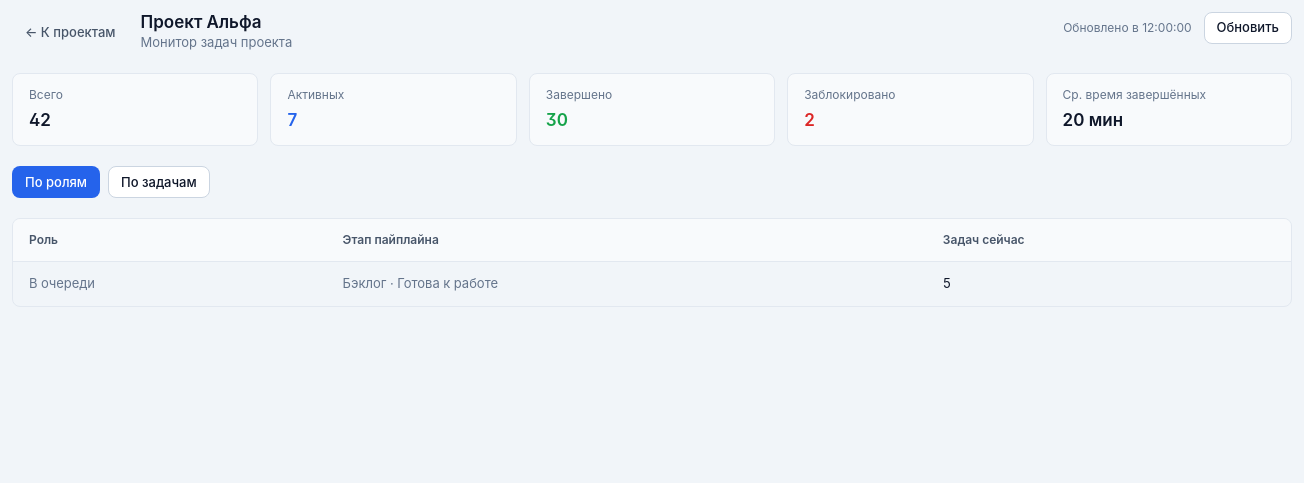
Test case: ProjectMonitor — наблюдаемость (KPI, причина блока, форс-док) › для заблокированной задачи показывает причину блокировки (роль и заметку)
The image size is (1304, 483).
Click the tab "По задачам". click: (159, 182)
box: x1=108 y1=166 x2=210 y2=198
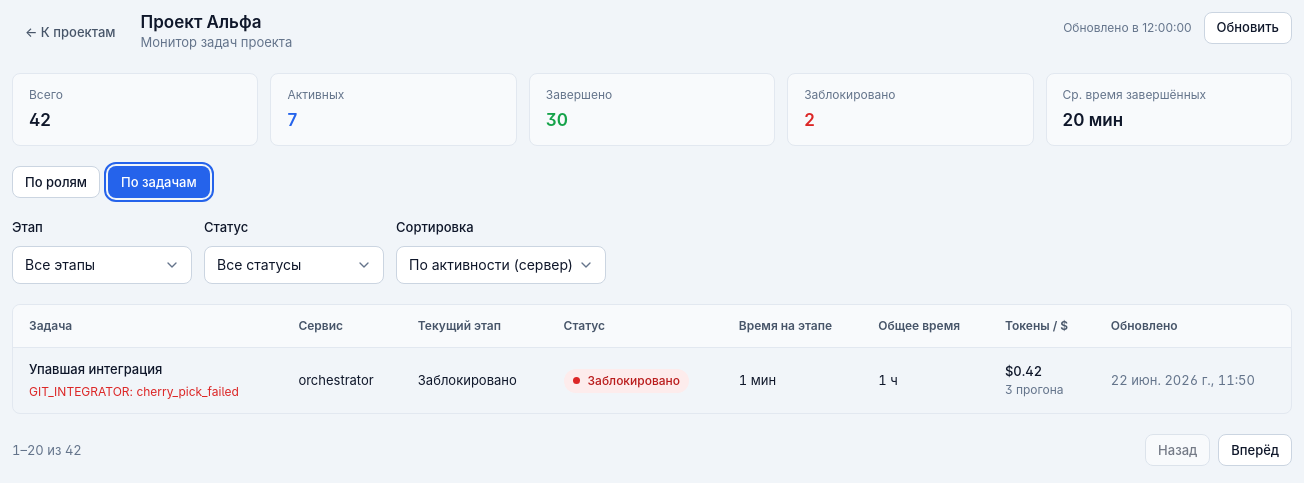
Result: the text "GIT_INTEGRATOR: cherry_pick_failed" is shown at x1=29 y1=383 x2=266 y2=401
